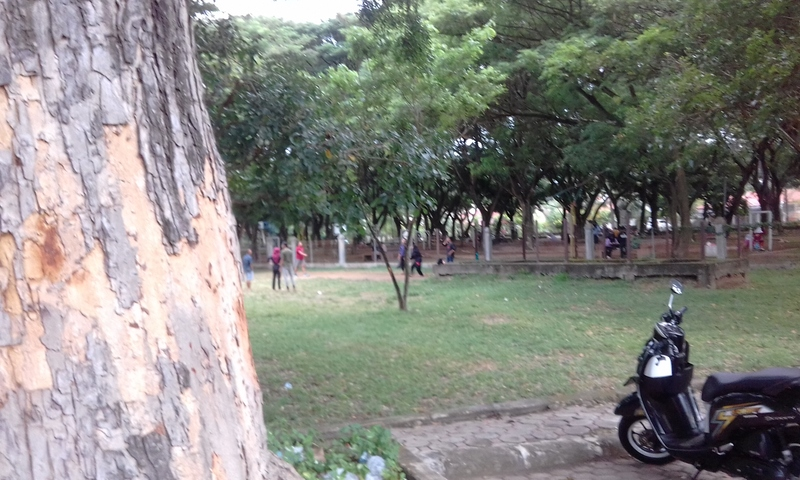motorcycle: (610, 275, 800, 476)
person: (265, 245, 286, 293), (281, 241, 300, 293), (240, 245, 256, 293), (293, 238, 309, 279)
